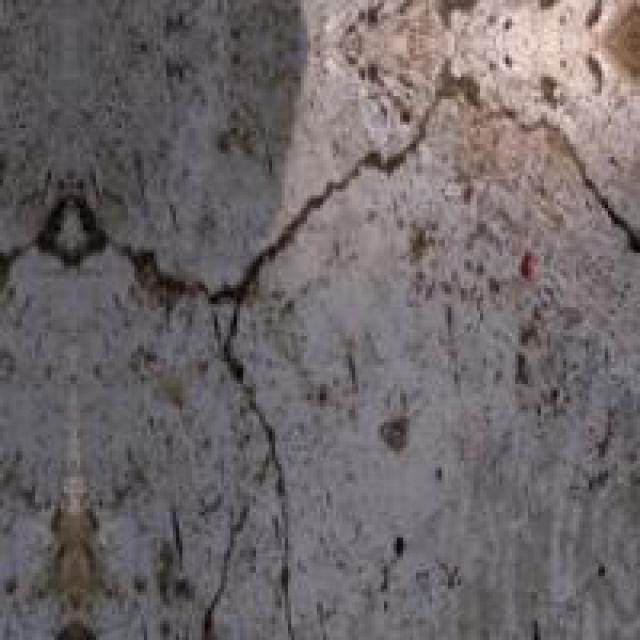Crack: (117, 53, 600, 600)
